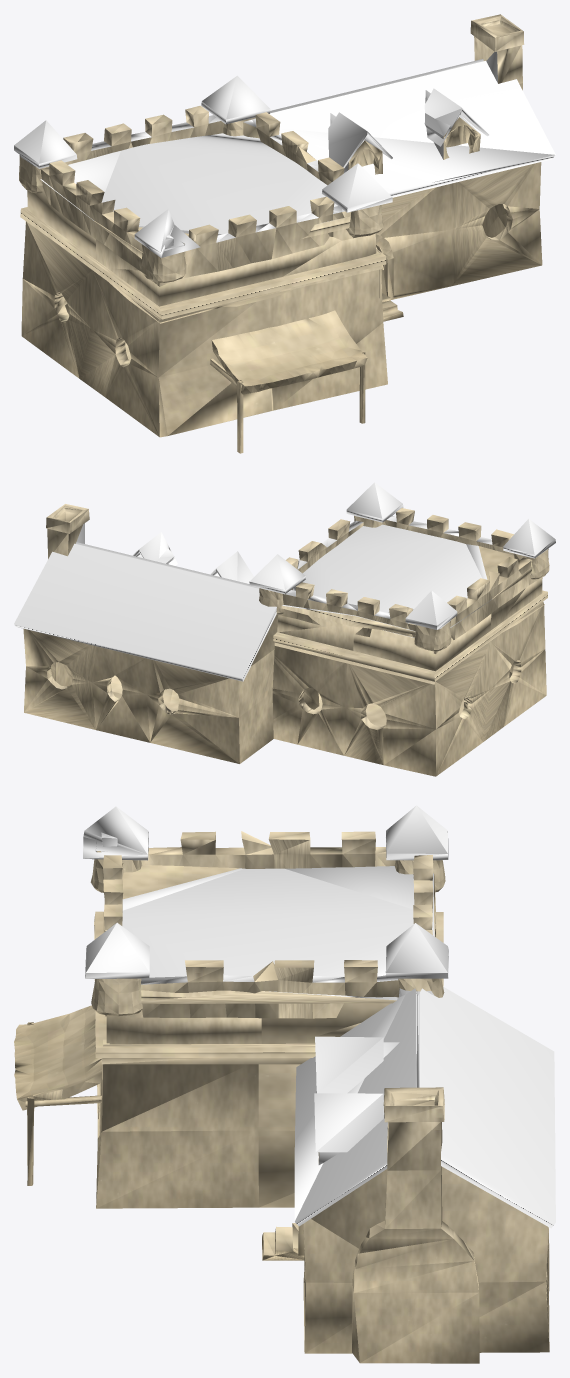
Rendered from castle.2.glb.
The picture shows the model from 3 angles, top to bottom: view 1: azimuth 30°, elevation 25°; view 2: azimuth 150°, elevation 25°; view 3: azimuth 270°, elevation 25°; orthographic projection. The views are drawn at different scales.
Parts seen in each view (by area): view 1: castle; view 2: castle; view 3: castle.
Part boxes in pixels (box(x1,y1,x2,y2)): castle: box(14, 14, 555, 453); castle: box(14, 482, 555, 776); castle: box(14, 805, 555, 1363).
Bounding box in the file's own units: 2.9 × 1.3 × 2.27.
2 materials, 1 textured.
